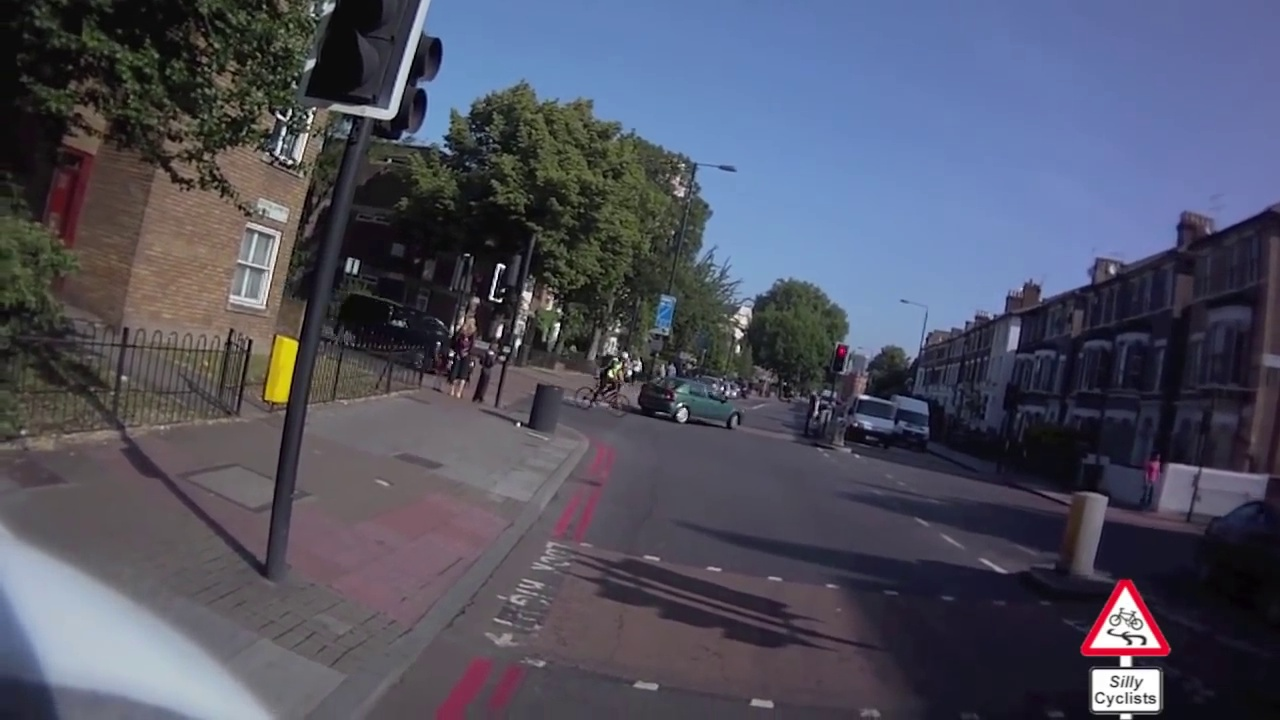cyclist_side: (572, 359, 627, 413)
